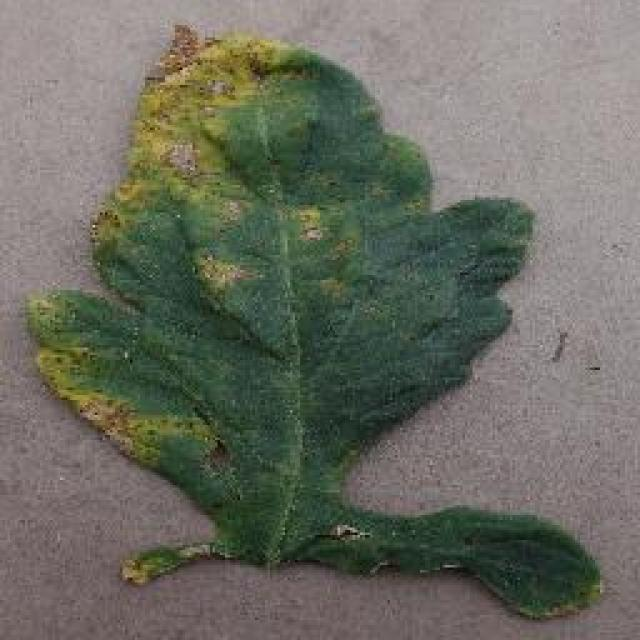bacterial spot: (22, 22, 607, 622)
